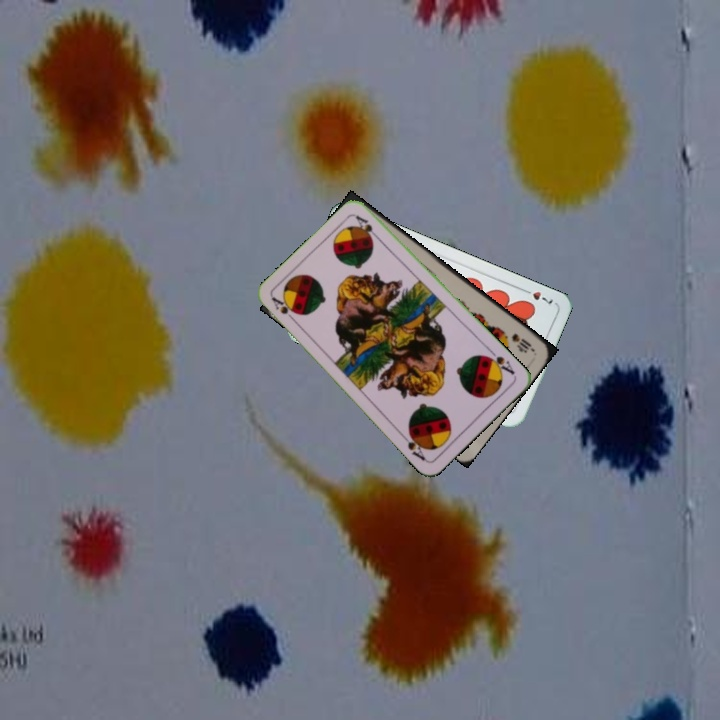H7: (518, 285, 556, 309)
S10: (507, 329, 536, 354)
SA: (481, 346, 517, 377), (268, 293, 300, 326)
